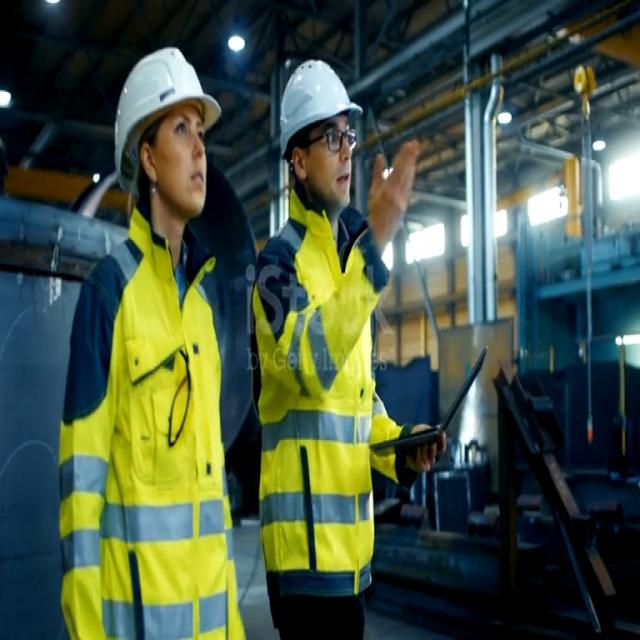capacete: (90, 35, 224, 185), (264, 50, 367, 166)
